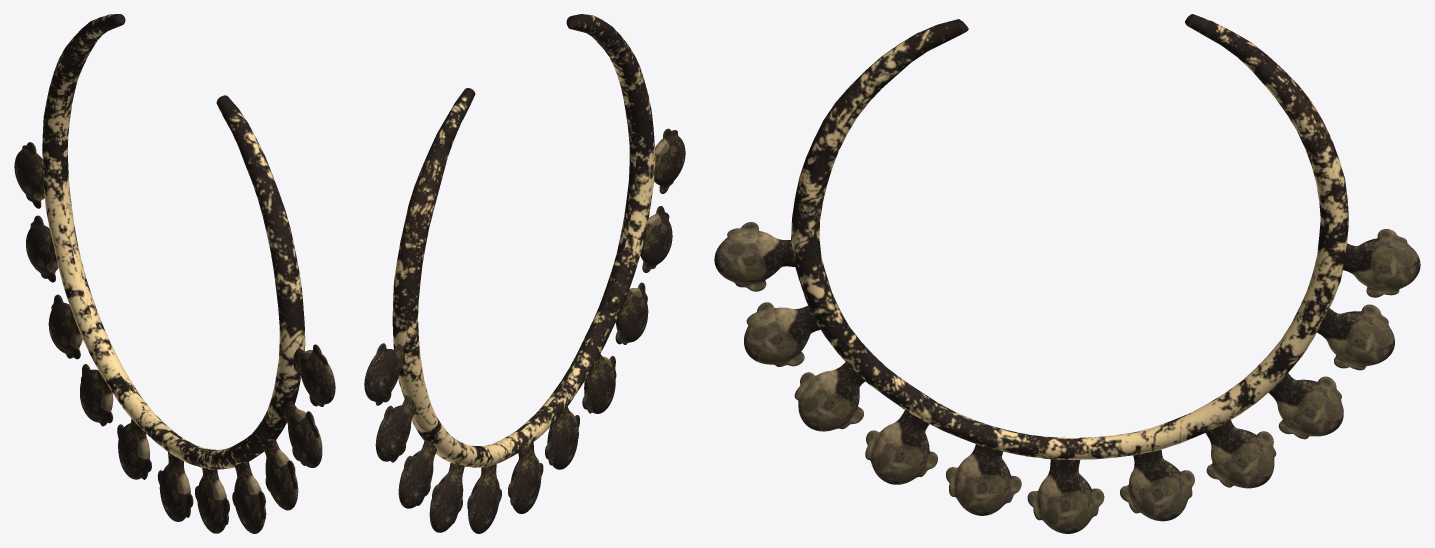
File: build.obj
The picture shows the model from 3 angles, left to right: view 1: azimuth 30°, elevation 25°; view 2: azimuth 150°, elevation 25°; view 3: azimuth 270°, elevation 25°; orthographic projection. The views are drawn at different scales.
Visible parts, largest first — view 1: Cylinder, head_LP.010, head_LP.009, head_LP.008, head_LP.007, head_LP, head_LP.006, head_LP.001, head_LP.002, head_LP.003, head_LP.004, head_LP.005; view 2: Cylinder, head_LP.004, head_LP.003, head_LP.005, head_LP.002, head_LP, head_LP.001, head_LP.006, head_LP.007, head_LP.010, head_LP.008, head_LP.009; view 3: Cylinder, head_LP, head_LP.010, head_LP.002, head_LP.007, head_LP.004, head_LP.009, head_LP.003, head_LP.001, head_LP.008, head_LP.005, head_LP.006.
Boxes of the visible parts, left/top/right/bottom form: Cylinder: left=42, top=14, right=305, bottom=469; head_LP.010: left=293, top=344, right=335, bottom=406; head_LP.009: left=283, top=401, right=322, bottom=467; head_LP.008: left=263, top=439, right=298, bottom=510; head_LP.007: left=232, top=462, right=266, bottom=533; head_LP: left=157, top=452, right=193, bottom=521; head_LP.006: left=195, top=467, right=229, bottom=533; head_LP.001: left=117, top=418, right=151, bottom=479; head_LP.002: left=80, top=364, right=113, bottom=426; head_LP.003: left=48, top=294, right=82, bottom=359; head_LP.004: left=26, top=215, right=58, bottom=282; head_LP.005: left=14, top=142, right=44, bottom=208; Cylinder: left=392, top=14, right=655, bottom=467; head_LP.004: left=375, top=396, right=415, bottom=462; head_LP.003: left=398, top=440, right=436, bottom=508; head_LP.005: left=364, top=343, right=404, bottom=405; head_LP.002: left=429, top=463, right=464, bottom=532; head_LP: left=508, top=442, right=543, bottom=513; head_LP.001: left=467, top=464, right=501, bottom=533; head_LP.006: left=545, top=406, right=579, bottom=469; head_LP.007: left=582, top=354, right=616, bottom=413; head_LP.010: left=654, top=128, right=685, bottom=193; head_LP.008: left=615, top=282, right=648, bottom=344; head_LP.009: left=640, top=206, right=672, bottom=272; Cylinder: left=791, top=14, right=1348, bottom=459; head_LP: left=1027, top=459, right=1104, bottom=533; head_LP.010: left=714, top=222, right=795, bottom=291; head_LP.002: left=1205, top=420, right=1276, bottom=488; head_LP.007: left=865, top=410, right=937, bottom=484; head_LP.004: left=1317, top=304, right=1394, bottom=370; head_LP.009: left=744, top=302, right=820, bottom=366; head_LP.003: left=1268, top=373, right=1343, bottom=439; head_LP.001: left=1120, top=449, right=1194, bottom=521; head_LP.008: left=794, top=362, right=865, bottom=431; head_LP.005: left=1343, top=229, right=1420, bottom=297; head_LP.006: left=946, top=444, right=1021, bottom=515.
Size of the model in its own units: 0.00988 by 0.19 by 0.2343.
